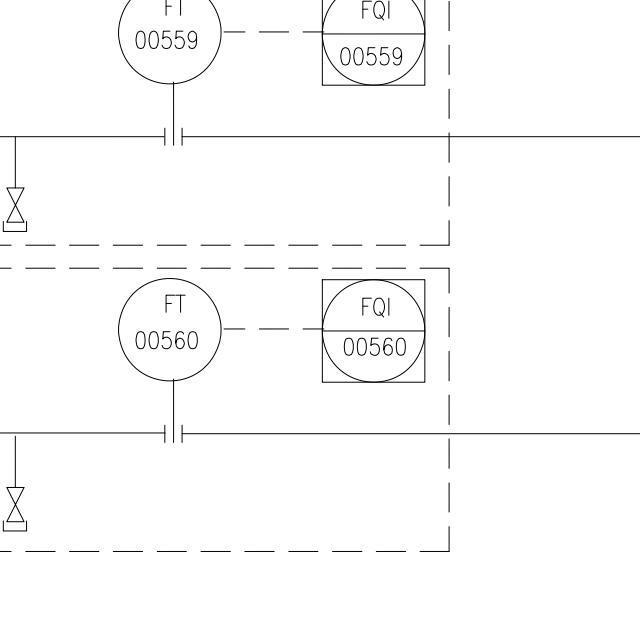EC: (1, 462, 32, 537), (0, 166, 31, 235)
GV: (2, 483, 27, 526), (3, 181, 26, 225)
